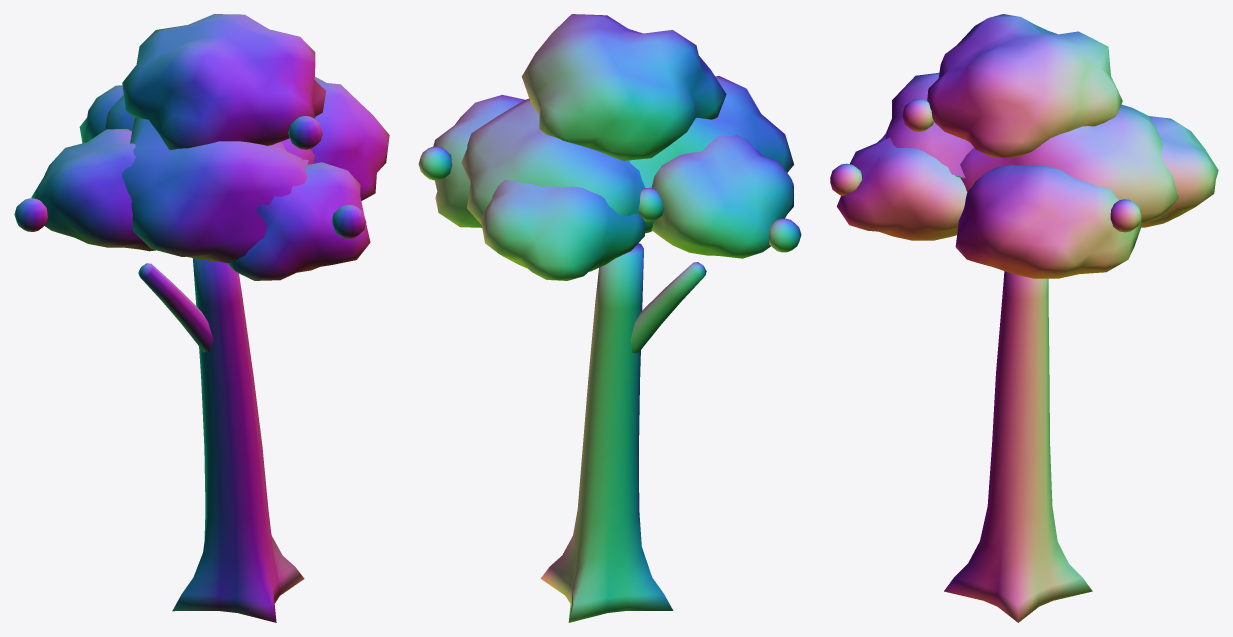
File: SM_Foliage_Plains_FruitTree_A.fbx
The picture shows the model from 3 angles, left to right: view 1: azimuth 30°, elevation 25°; view 2: azimuth 150°, elevation 25°; view 3: azimuth 270°, elevation 25°; orthographic projection. The views are drawn at different scales.
Visible parts, largest first — view 1: SM_Foliage_Plains_FruitTree_A; view 2: SM_Foliage_Plains_FruitTree_A; view 3: SM_Foliage_Plains_FruitTree_A.
Boxes of the visible parts, <box> form: SM_Foliage_Plains_FruitTree_A: <box>14,14,389,622</box>; SM_Foliage_Plains_FruitTree_A: <box>418,14,801,622</box>; SM_Foliage_Plains_FruitTree_A: <box>830,14,1218,622</box>.
Bounding box in the file's own units: 2.14 × 3.21 × 2.04.
